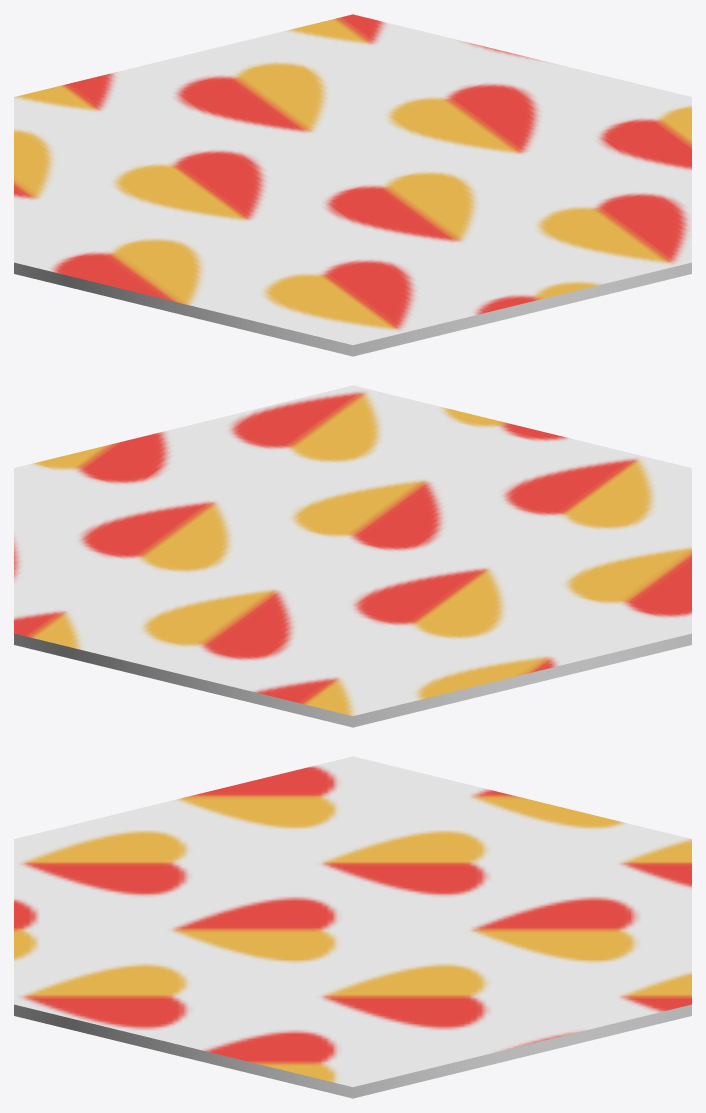
The picture shows the model from 3 angles, top to bottom: view 1: azimuth 30°, elevation 25°; view 2: azimuth 150°, elevation 25°; view 3: azimuth 270°, elevation 25°; orthographic projection.
Parts seen in each view (by area): view 1: Mat_A; view 2: Mat_A; view 3: Mat_A.
Part boxes in pixels (box(x1,y1,x2,y2)): Mat_A: box(14, 14, 691, 356); Mat_A: box(14, 385, 691, 727); Mat_A: box(14, 756, 691, 1098).
Bounding box in the file's own units: 210 × 3.38 × 182.
